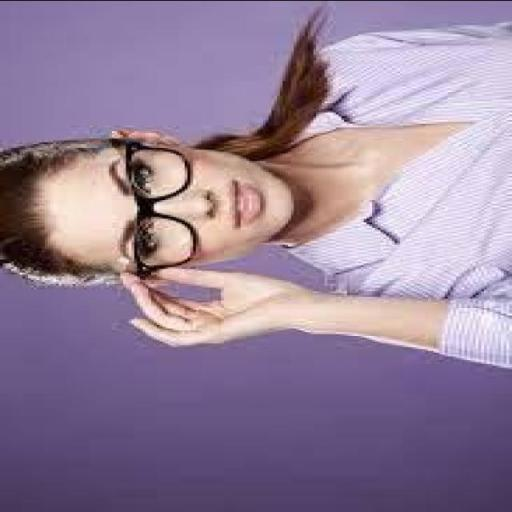glasses: (101, 133, 213, 284)
